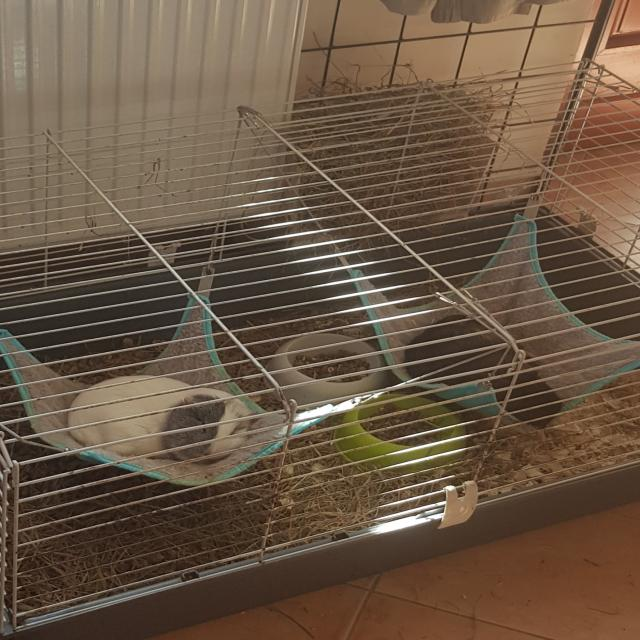guinea pig: (400, 310, 565, 430), (62, 372, 252, 464)
